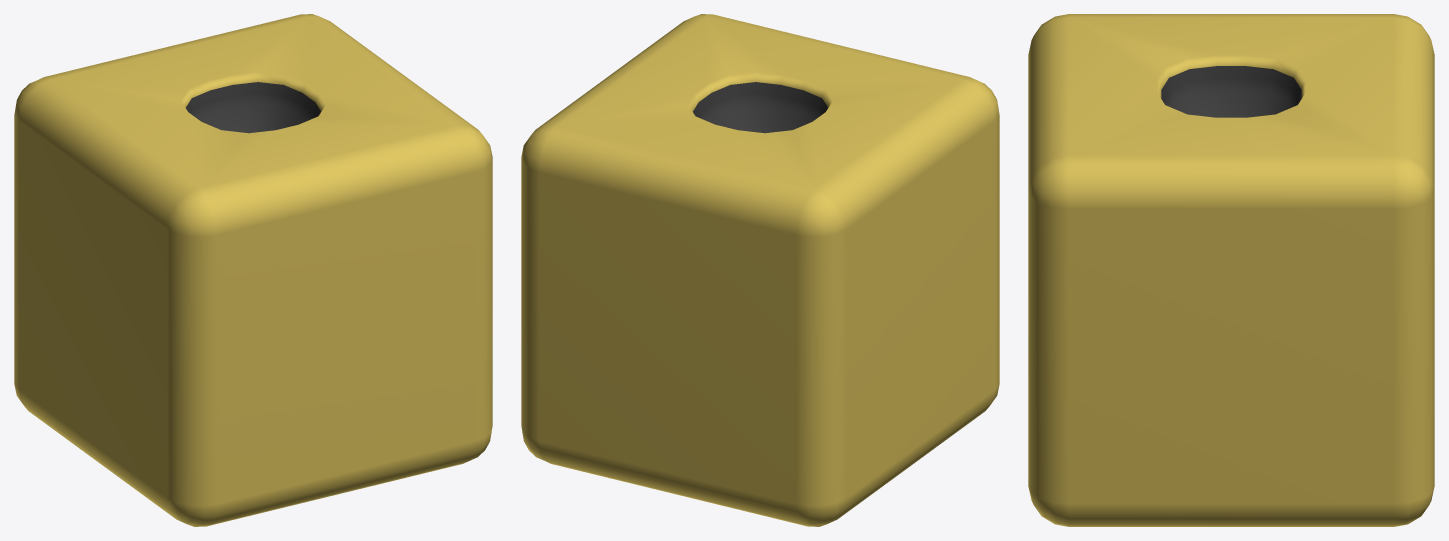
Rendered from jiaoshixiang.fbx.
The picture shows the model from 3 angles, left to right: view 1: azimuth 30°, elevation 25°; view 2: azimuth 150°, elevation 25°; view 3: azimuth 270°, elevation 25°; orthographic projection. The views are drawn at different scales.
Visible parts, largest first — view 1: jiaoshixiang; view 2: jiaoshixiang; view 3: jiaoshixiang.
Part boxes in pixels (x1,y1,x2,y2): jiaoshixiang: [14, 14, 492, 526]; jiaoshixiang: [521, 14, 999, 526]; jiaoshixiang: [1028, 14, 1434, 526].
Size of the model in its own units: 18 by 18 by 18.
